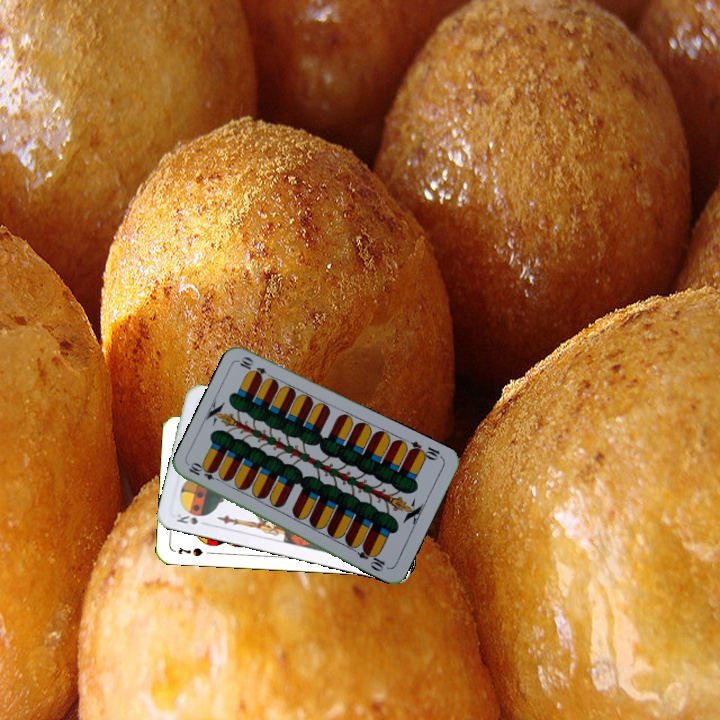E10: (405, 437, 445, 463), (185, 460, 224, 485)
S7: (174, 543, 205, 559)
SK: (171, 508, 209, 527)
